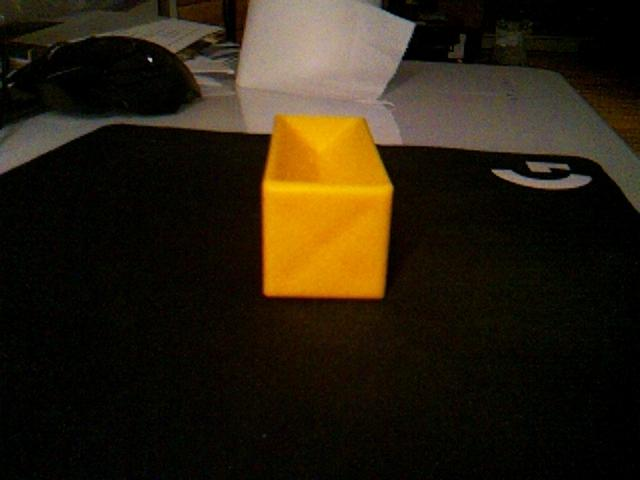yellow: (260, 112, 395, 301)
